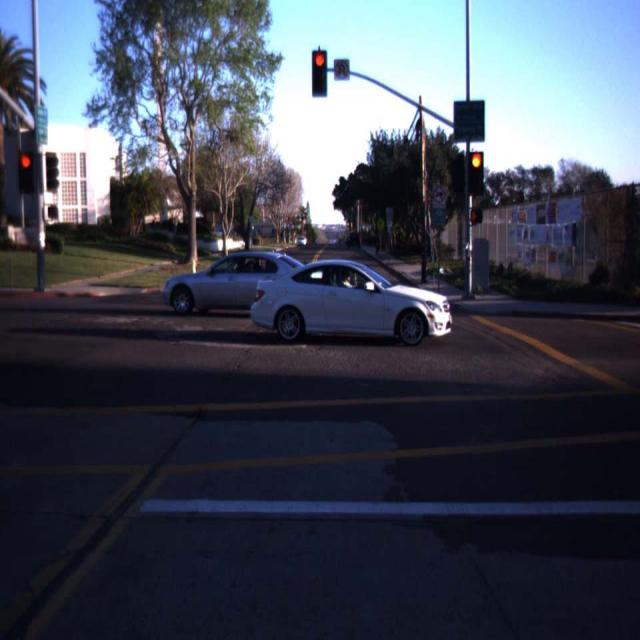kirmizi: (466, 151, 484, 195), (312, 50, 327, 99)
